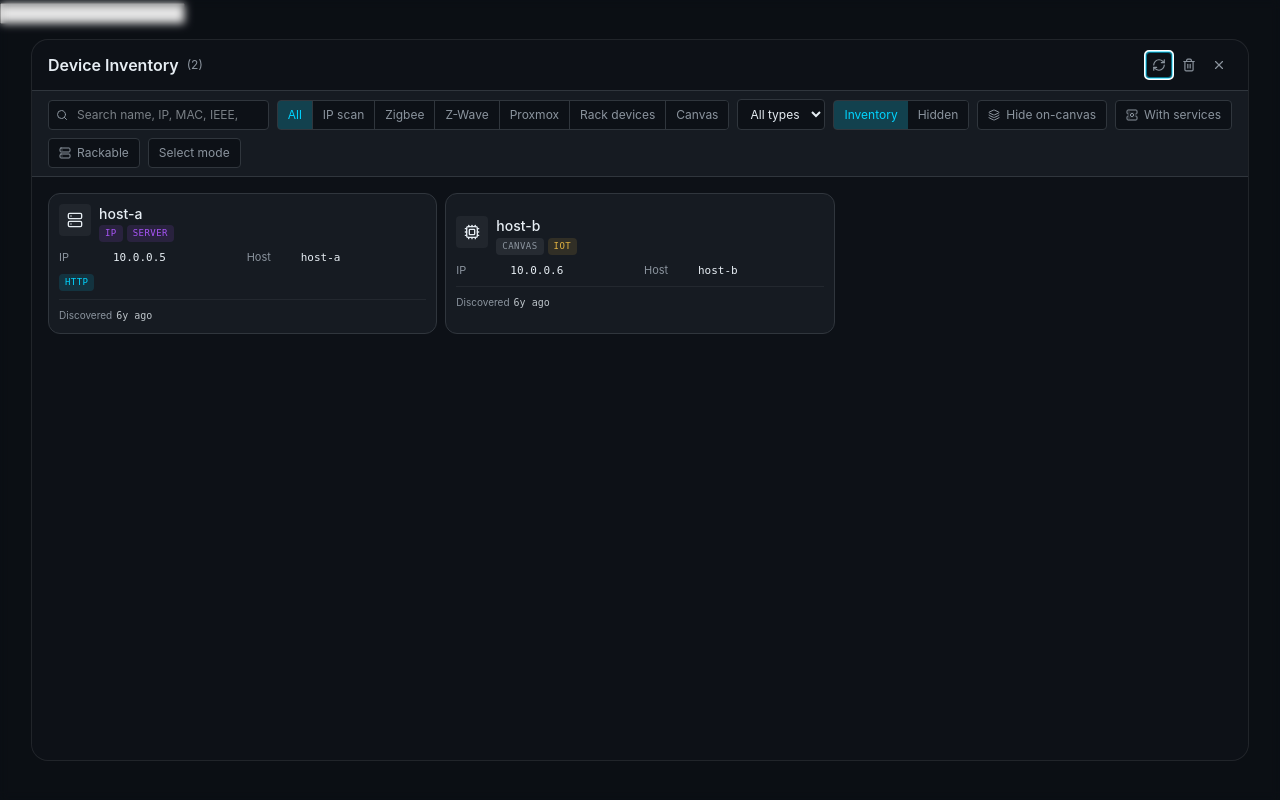
Test: PendingDevicesModal — the inventory row owns the device (homelable #339) › filters on the Canvas source
Check: the button with test id "pending-card-dev-a" is shown, box x1=48 y1=193 x2=437 y2=334
Step 1. Click the button "Canvas" → (697, 114), box x1=665 y1=100 x2=728 y2=128
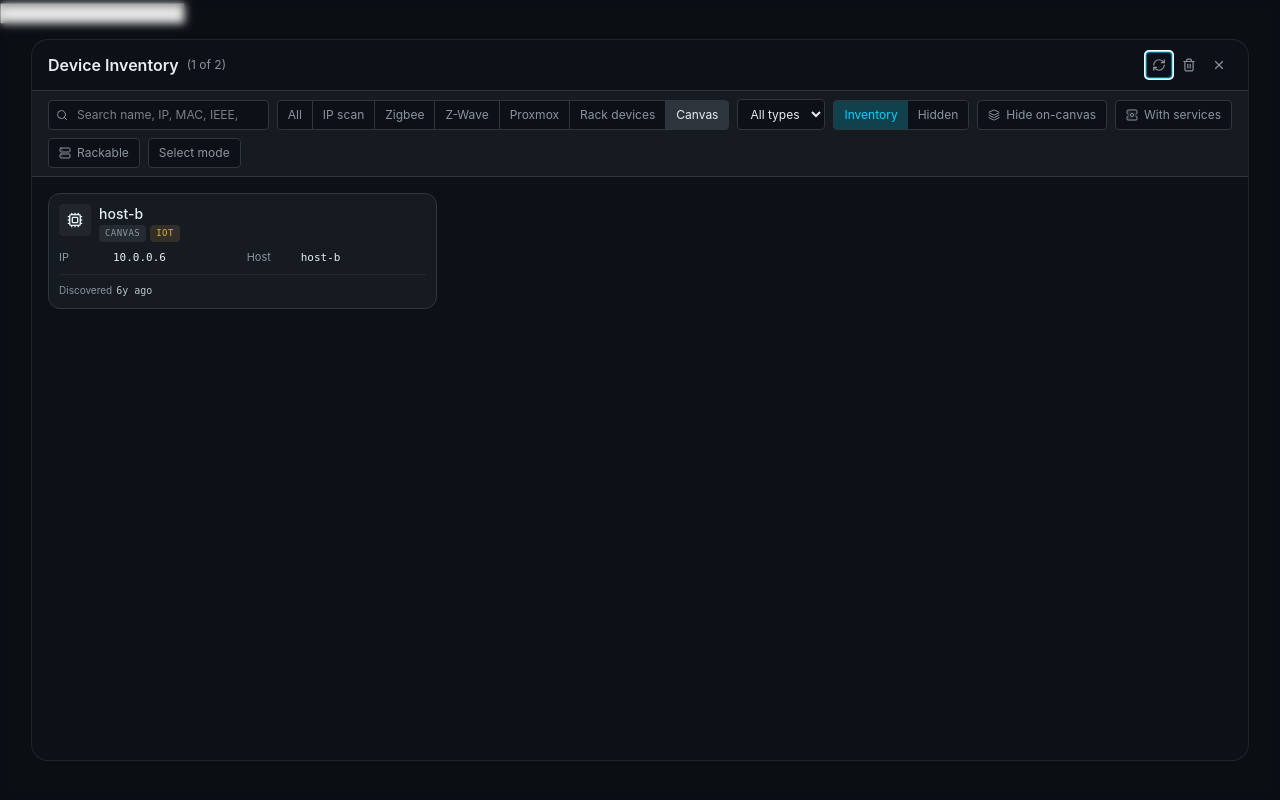
Check: the button with test id "pending-card-dev-b" is shown, box x1=48 y1=193 x2=437 y2=309
Check: the button with test id "pending-card-dev-a" is gone
